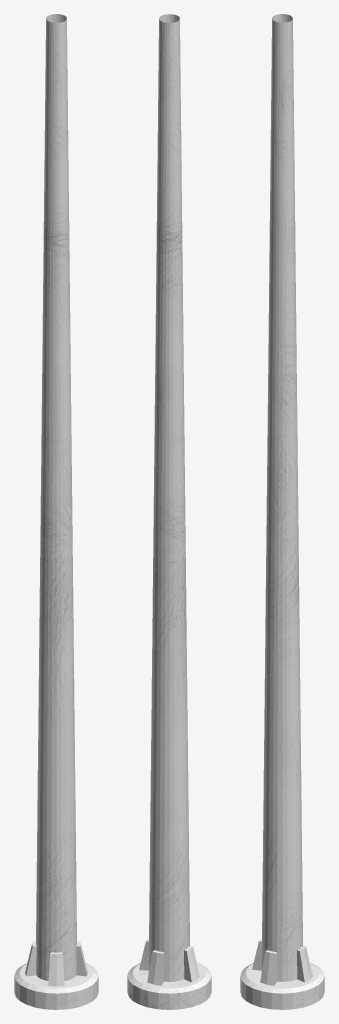
Rendered from tower.dae.
3 views of the same model, side by side, from view 1: azimuth 90°, elevation 25°; view 2: azimuth 150°, elevation 25°; view 3: azimuth 330°, elevation 25° (orthographic).
Parts seen in each view (by area): view 1: Tower; view 2: Tower; view 3: Tower.
Boxes of the visible parts, box(x1,y1,x2,y2) form: Tower: box(14, 14, 98, 1009); Tower: box(127, 14, 211, 1009); Tower: box(240, 14, 324, 1009).
Size of the model in its own units: 2 by 2 by 25.5.
1 material, 1 textured.
